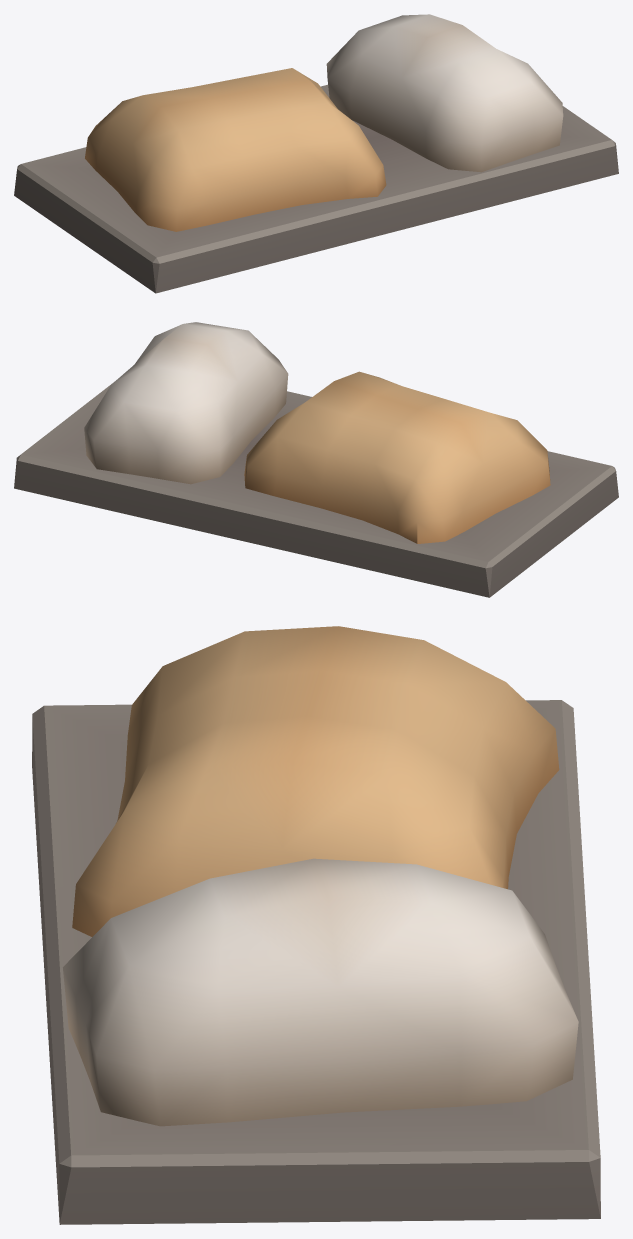
Rendered from 普通床使用后.fbx.
The picture shows the model from 3 angles, top to bottom: view 1: azimuth 30°, elevation 25°; view 2: azimuth 150°, elevation 25°; view 3: azimuth 270°, elevation 25°; orthographic projection. The views are drawn at different scales.
Visible parts, largest first — view 1: bed1B; view 2: bed1B; view 3: bed1B.
Boxes of the visible parts, bbox=[...] form: bed1B: bbox=[14, 14, 618, 293]; bed1B: bbox=[14, 322, 618, 597]; bed1B: bbox=[32, 626, 600, 1224].
Bounding box in the file's own units: 304 × 73.84 × 158.
1 material, 1 textured.
